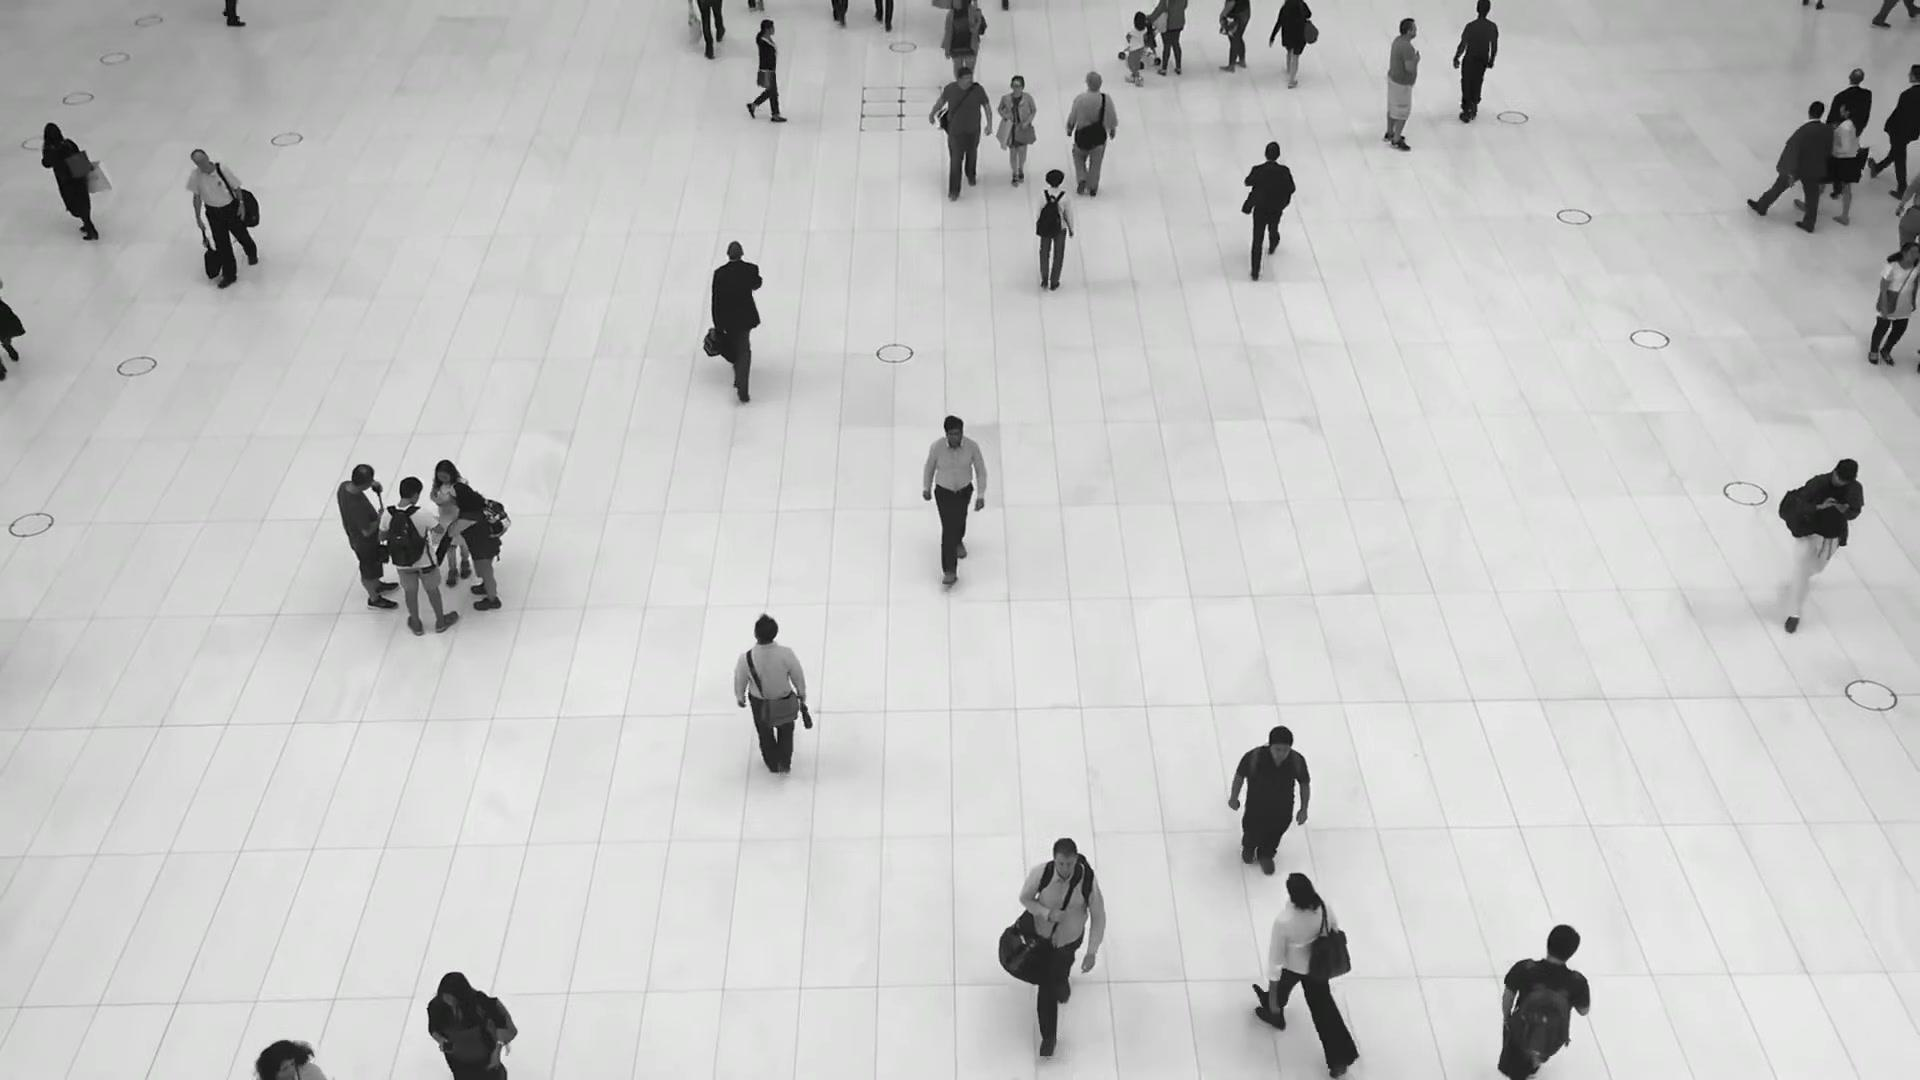person: (1252, 871, 1360, 1072), (1019, 837, 1107, 1055), (1495, 921, 1591, 1080), (1781, 458, 1864, 636), (378, 475, 460, 635), (1227, 723, 1311, 877), (733, 614, 808, 780), (920, 413, 987, 586), (1747, 99, 1833, 231), (187, 147, 257, 289), (336, 463, 400, 608), (425, 971, 507, 1080), (711, 239, 764, 403), (930, 65, 993, 201), (1241, 139, 1298, 279), (1798, 99, 1860, 224), (40, 118, 100, 241), (1065, 71, 1119, 198), (449, 481, 501, 610), (1867, 241, 1919, 369), (1871, 62, 1920, 197), (1451, 0, 1499, 122), (1030, 168, 1075, 291), (427, 458, 470, 581), (1383, 16, 1421, 150), (744, 17, 791, 122), (996, 75, 1036, 188), (1268, 0, 1312, 88), (941, 0, 986, 81), (1124, 10, 1147, 87)
